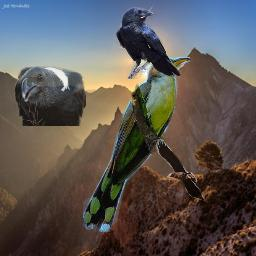Crow: (116, 7, 182, 79), (14, 66, 86, 126), (156, 139, 205, 201)
Cuckoo: (83, 57, 190, 232)
